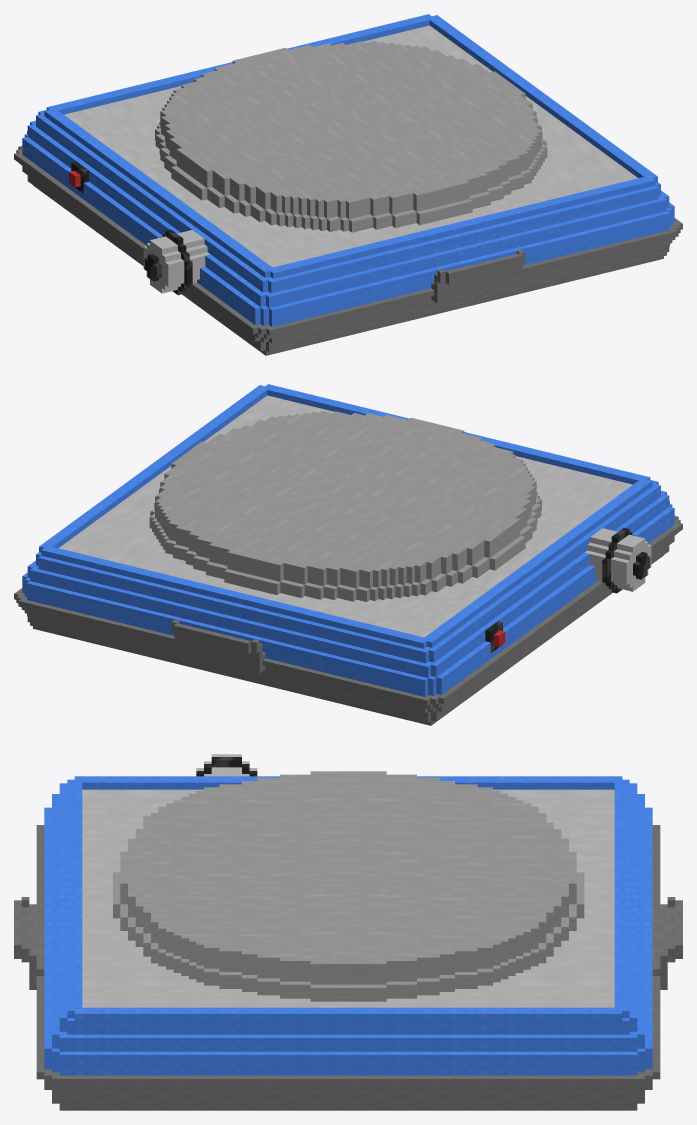
Rendered from hot_plate_finalized.fbx.
The picture shows the model from 3 angles, top to bottom: view 1: azimuth 30°, elevation 25°; view 2: azimuth 150°, elevation 25°; view 3: azimuth 270°, elevation 25°; orthographic projection. The views are drawn at different scales.
Parts seen in each view (by area): view 1: hot_plate, knob; view 2: hot_plate, knob; view 3: hot_plate, knob.
Part boxes in pixels (<box>): hot_plate: <box>14,14,682,355</box>; knob: <box>143,229,192,295</box>; hot_plate: <box>14,384,682,725</box>; knob: <box>602,528,651,593</box>; hot_plate: <box>14,767,682,1110</box>; knob: <box>196,754,257,776</box>.
Bounding box in the file's own units: 8.7 × 1.8 × 8.8.
6 materials, 6 textured.
